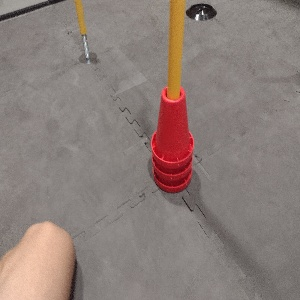Red_3: (150, 82, 194, 194)
